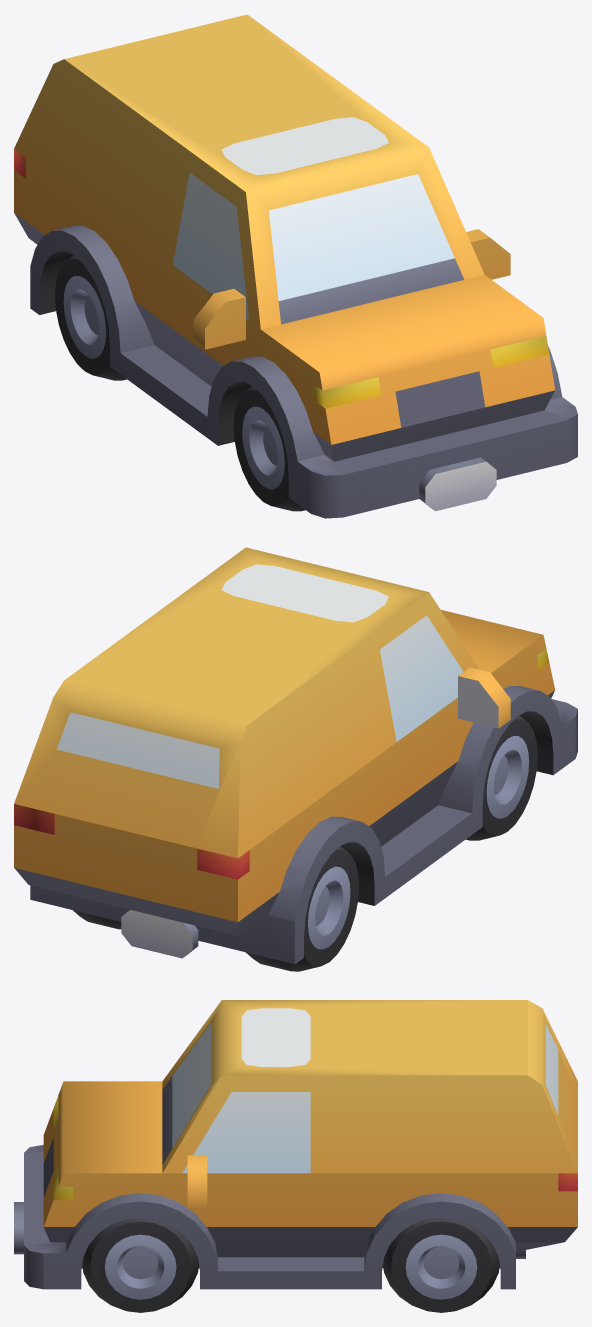
Rendered from suv-luxury.glb.
3 renders of one model, top to bottom at view 1: azimuth 30°, elevation 25°; view 2: azimuth 150°, elevation 25°; view 3: azimuth 270°, elevation 25°, orthographic. The views are drawn at different scales.
Parts seen in each view (by area): view 1: body, wheel-front-right, wheel-back-right; view 2: body, wheel-back-right, wheel-front-right; view 3: body, wheel-back-left, wheel-front-left.
Part boxes in pixels (x1,y1,x2,y2): body: (14, 14, 577, 518); wheel-front-right: (233, 386, 305, 511); wheel-back-right: (55, 255, 126, 380); body: (14, 547, 577, 964); wheel-back-right: (246, 846, 358, 971); wheel-front-right: (466, 715, 537, 840); body: (14, 1000, 577, 1289); wheel-back-left: (383, 1217, 499, 1312); wheel-front-left: (82, 1217, 198, 1312).
Bounding box in the file's own units: 1.5 × 1.3 × 2.85.
Materials: 1 (1 with a texture image).
